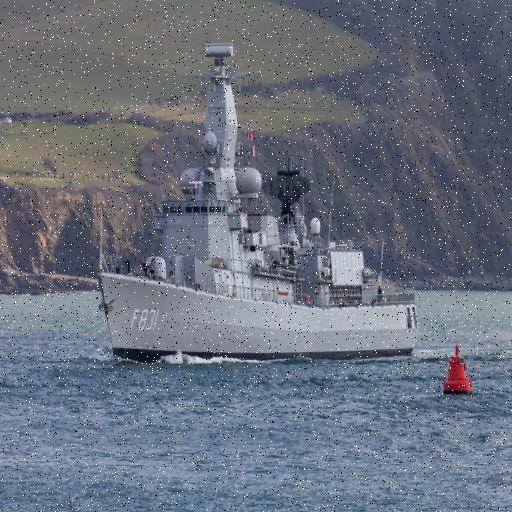Fragata: (95, 43, 423, 364)
